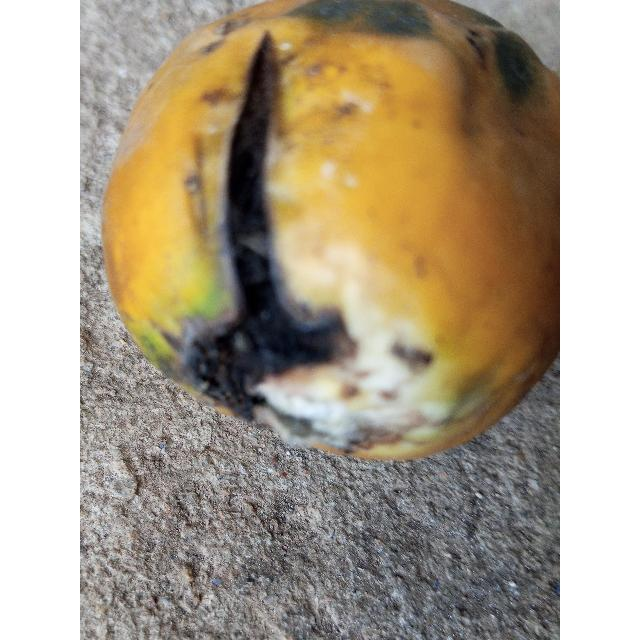damaged: (101, 0, 560, 465)
